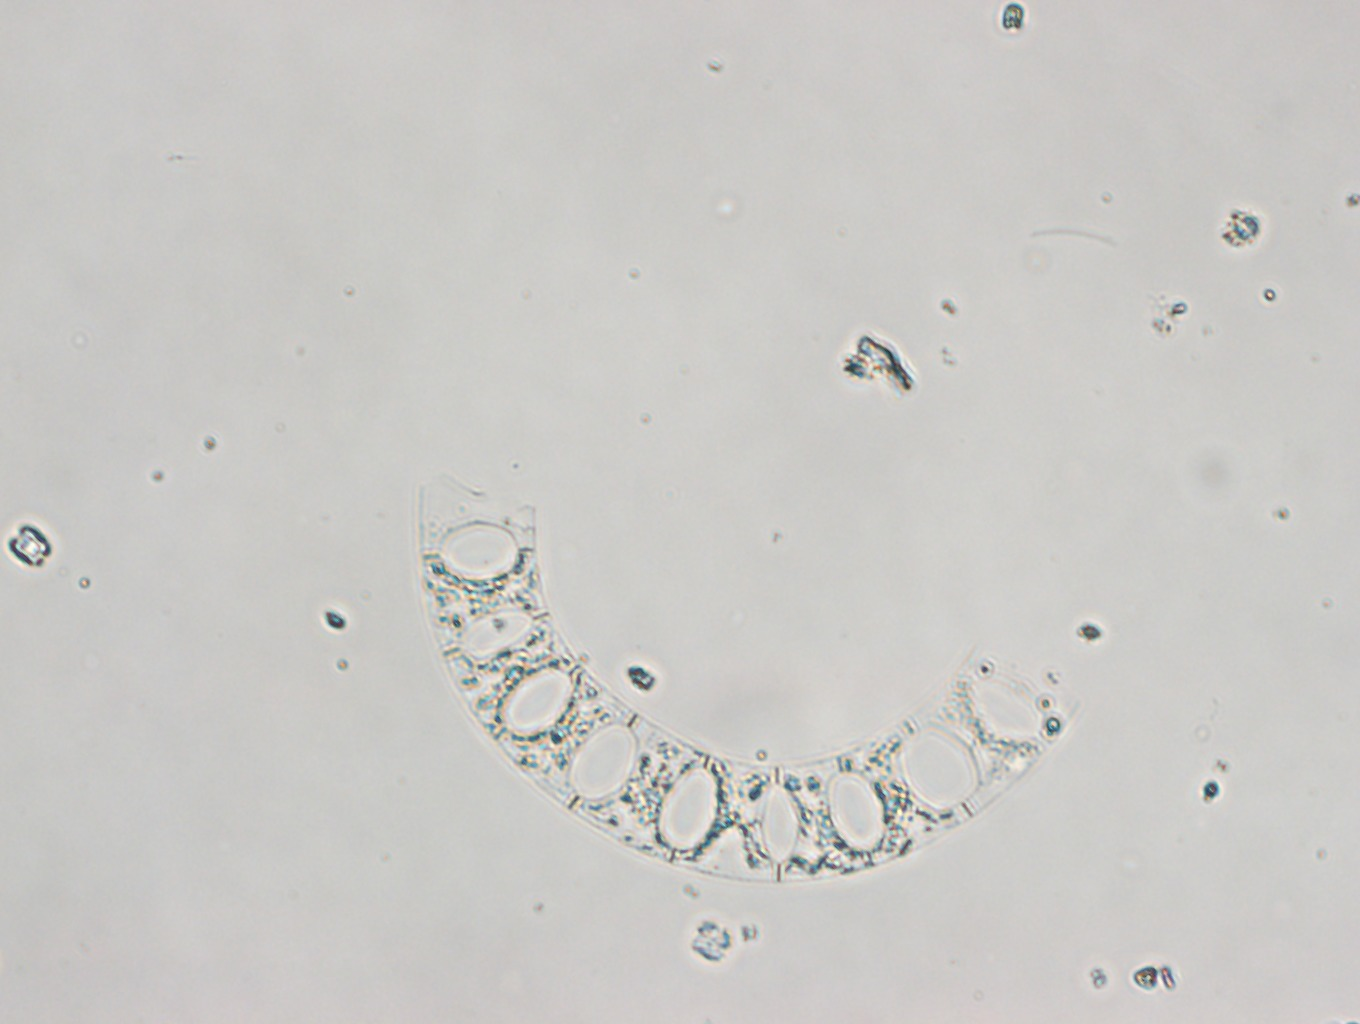eucampia: (414, 458, 1079, 883)
